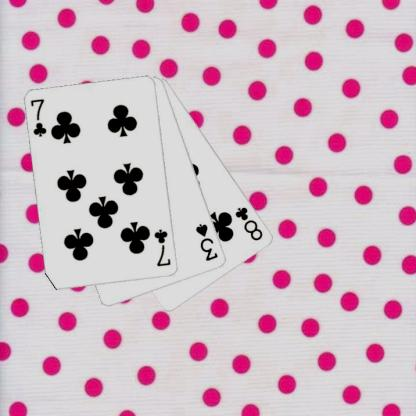3S: (193, 221, 220, 263)
7C: (152, 226, 172, 268), (28, 96, 48, 138)
8C: (233, 204, 264, 242)
